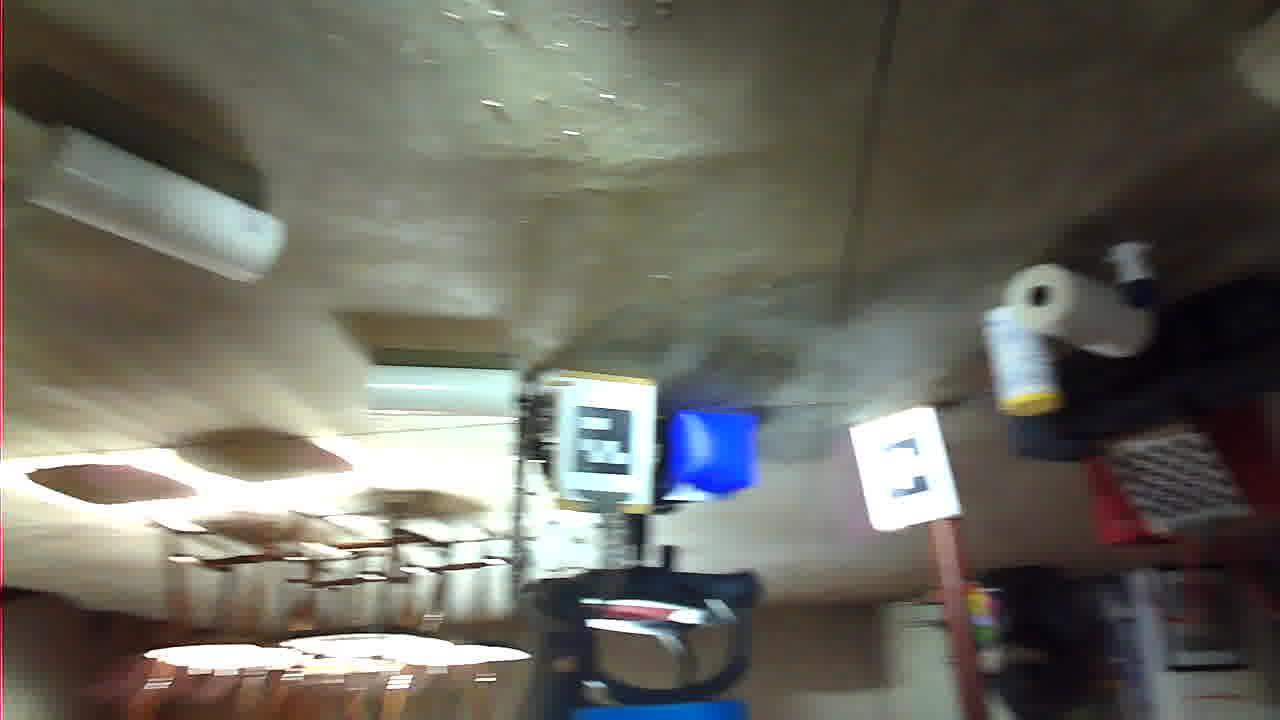coral: (993, 439, 1255, 597), (756, 302, 914, 360), (0, 602, 43, 711)
